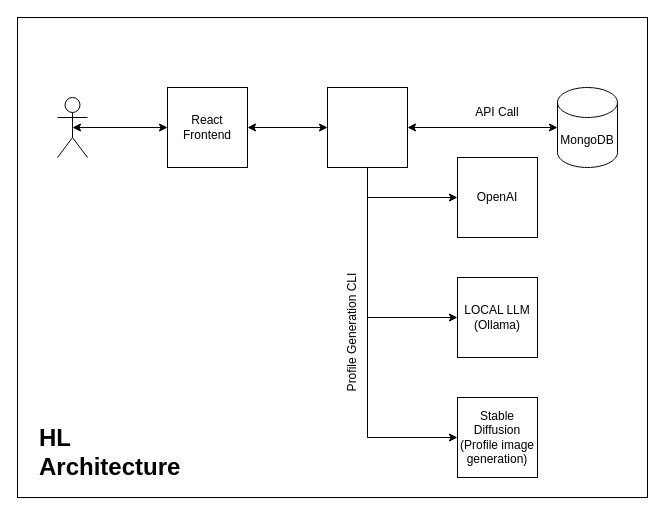
Some shapes in this 665 by 523 pixel diagram are drawn without their labels. The centre of each missing label's shape, as x and y in pixels:
"SpringBoot Backend" goes at (x=367, y=127).
"User" goes at (x=72, y=127).
